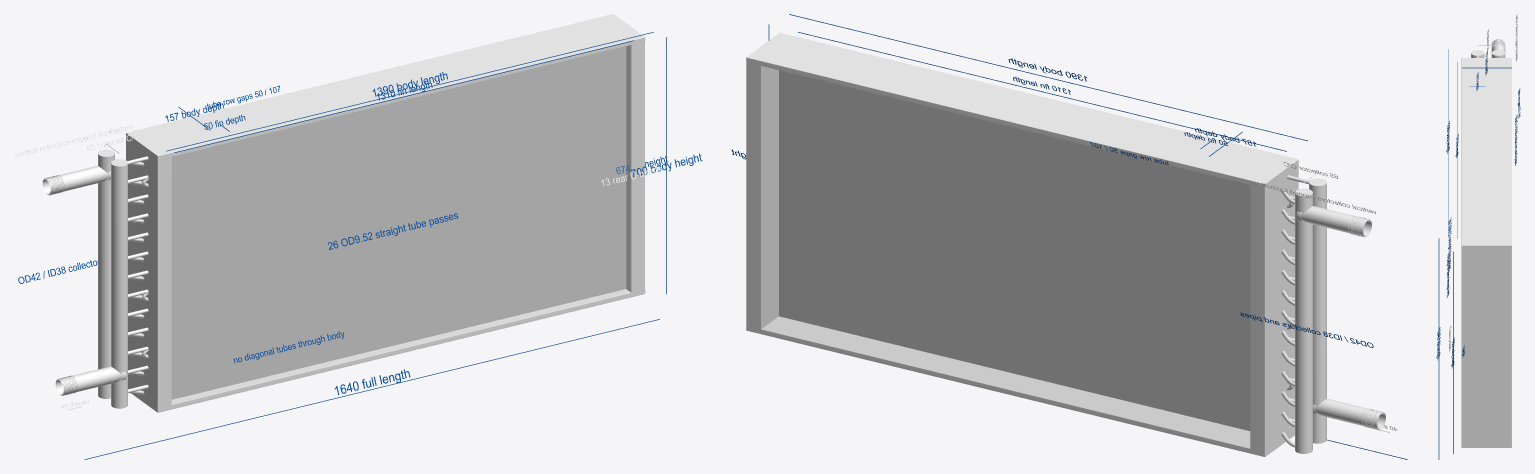
Rendered from model_annotated.glb.
3 views of the same model, side by side, from view 1: azimuth 30°, elevation 25°; view 2: azimuth 150°, elevation 25°; view 3: azimuth 270°, elevation 25° (orthographic). The views are drawn at different scales.
Parts seen in each view (by area): view 1: heat_exchanger_body, fin_pack, top_flange_13mm, service_front_flange_40mm, rear_flange_40mm, bottom_flange_13mm, straight_entry_collector, offset_collector, offset_collector_external_pipe, straight_entry_external_pipe, dim_full_length_1640_line; view 2: heat_exchanger_body, fin_pack, top_flange_13mm, service_front_flange_40mm, bottom_flange_13mm, rear_flange_40mm, offset_collector, straight_entry_collector, offset_collector_external_pipe, straight_entry_external_pipe, dim_body_length_1390_line; view 3: rear_flange_40mm, top_flange_13mm, heat_exchanger_body, dim_full_length_1640_line, service_front_flange_40mm, dim_body_height_700_line, dim_body_length_1390_line, dim_fin_length_1310_line, label_26_passes, bottom_flange_13mm, label_od42, offset_collector (+1 smaller).
Part boxes in pixels (box(x1,y1,x2,y2)): heat_exchanger_body: box(128, 21, 644, 408); fin_pack: box(171, 46, 625, 399); top_flange_13mm: box(126, 14, 645, 160); service_front_flange_40mm: box(126, 130, 171, 412); rear_flange_40mm: box(600, 14, 644, 296); bottom_flange_13mm: box(131, 289, 645, 412); straight_entry_collector: box(111, 159, 127, 408); offset_collector: box(98, 149, 114, 398); offset_collector_external_pipe: box(42, 166, 108, 195); straight_entry_external_pipe: box(55, 366, 121, 395); dim_full_length_1640_line: box(84, 319, 659, 459); heat_exchanger_body: box(747, 56, 1298, 448); fin_pack: box(779, 70, 1250, 430); top_flange_13mm: box(746, 32, 1298, 188); service_front_flange_40mm: box(1250, 156, 1298, 456); bottom_flange_13mm: box(746, 316, 1294, 456); rear_flange_40mm: box(746, 33, 793, 333); offset_collector: box(1295, 188, 1312, 453); straight_entry_collector: box(1309, 178, 1326, 443); offset_collector_external_pipe: box(1301, 206, 1371, 237); straight_entry_external_pipe: box(1315, 398, 1385, 429); dim_body_length_1390_line: box(789, 14, 1307, 141); rear_flange_40mm: box(1461, 240, 1511, 447); top_flange_13mm: box(1461, 58, 1511, 248); heat_exchanger_body: box(1462, 58, 1510, 446); dim_full_length_1640_line: box(1438, 238, 1439, 459); service_front_flange_40mm: box(1462, 58, 1511, 63); dim_body_height_700_line: box(1453, 251, 1453, 454); dim_body_length_1390_line: box(1448, 49, 1448, 236); dim_fin_length_1310_line: box(1457, 62, 1457, 238); label_26_passes: box(1448, 217, 1451, 270); bottom_flange_13mm: box(1461, 444, 1511, 447); label_od42: box(1514, 114, 1517, 165); offset_collector: box(1491, 50, 1505, 57).
Bounding box in the file's own units: 1843 × 802 × 263.
